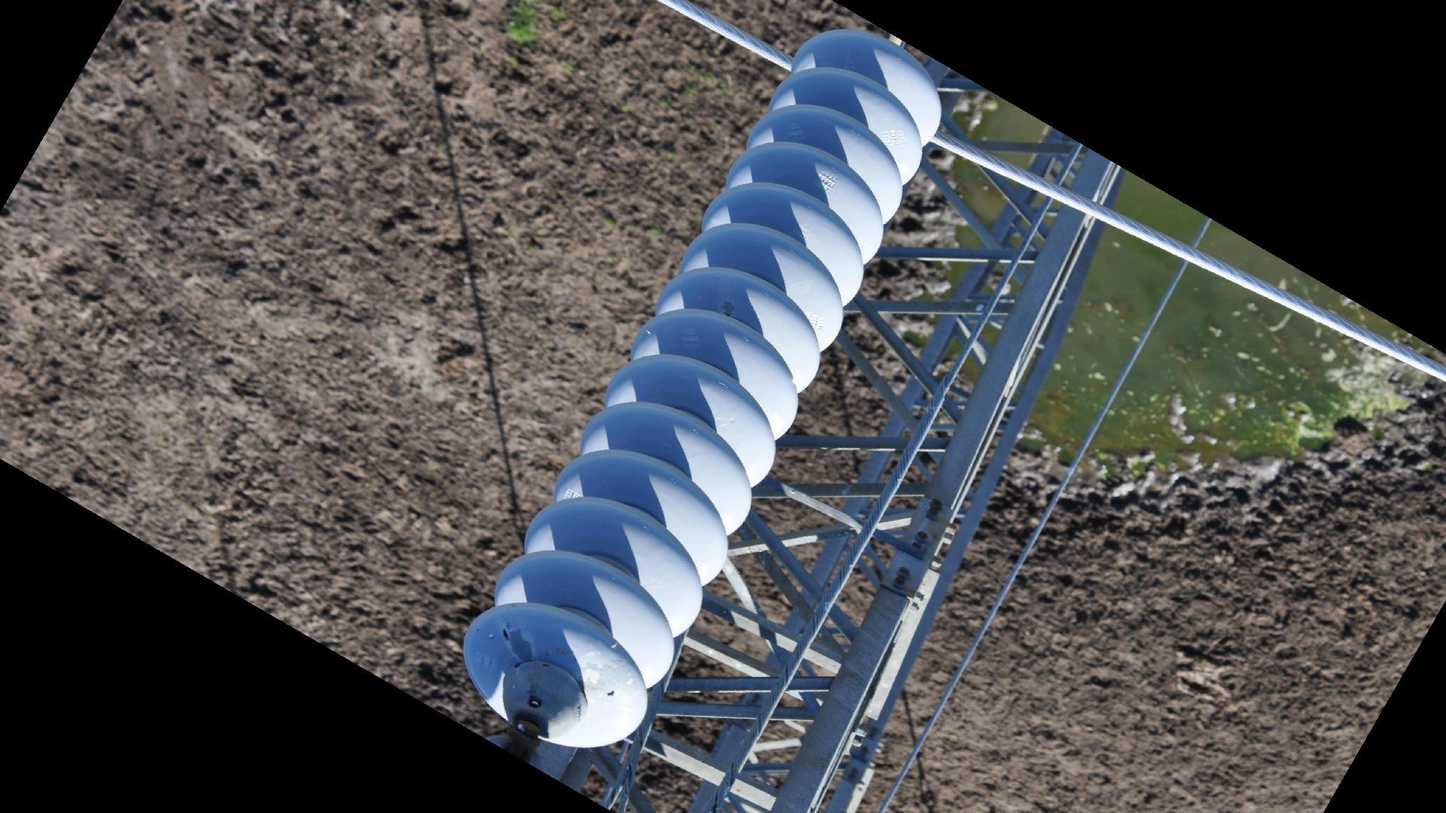insulator: (457, 23, 949, 760)
insulator_flashover: (581, 654, 648, 718), (503, 626, 535, 663)
